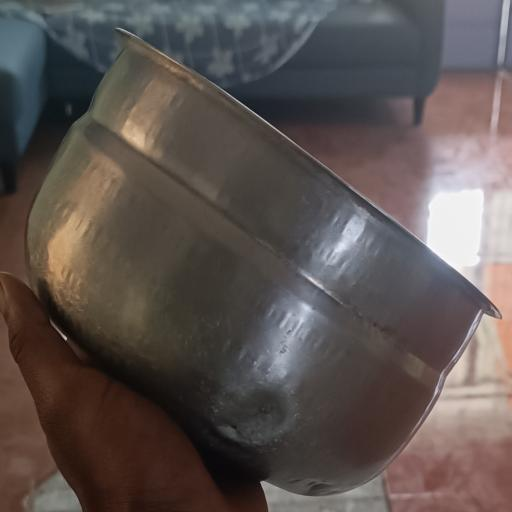vessel: (27, 30, 499, 495)
